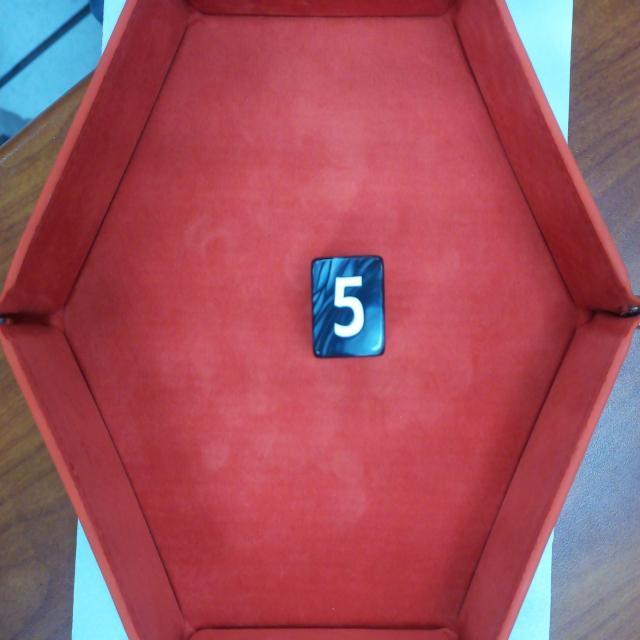dice: (310, 254, 386, 361)
